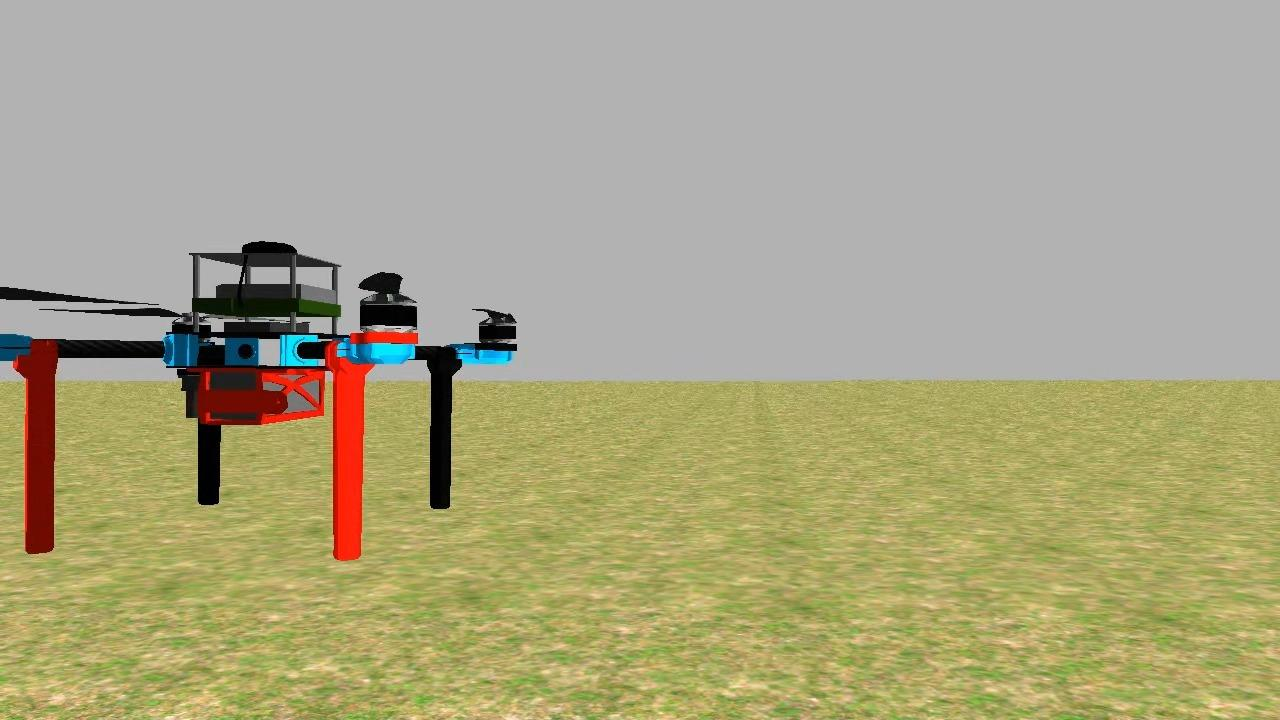UAV: (1, 234, 525, 574)
